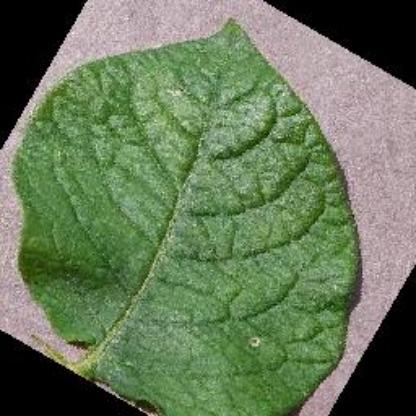Healthy-plant: (12, 19, 364, 416)
